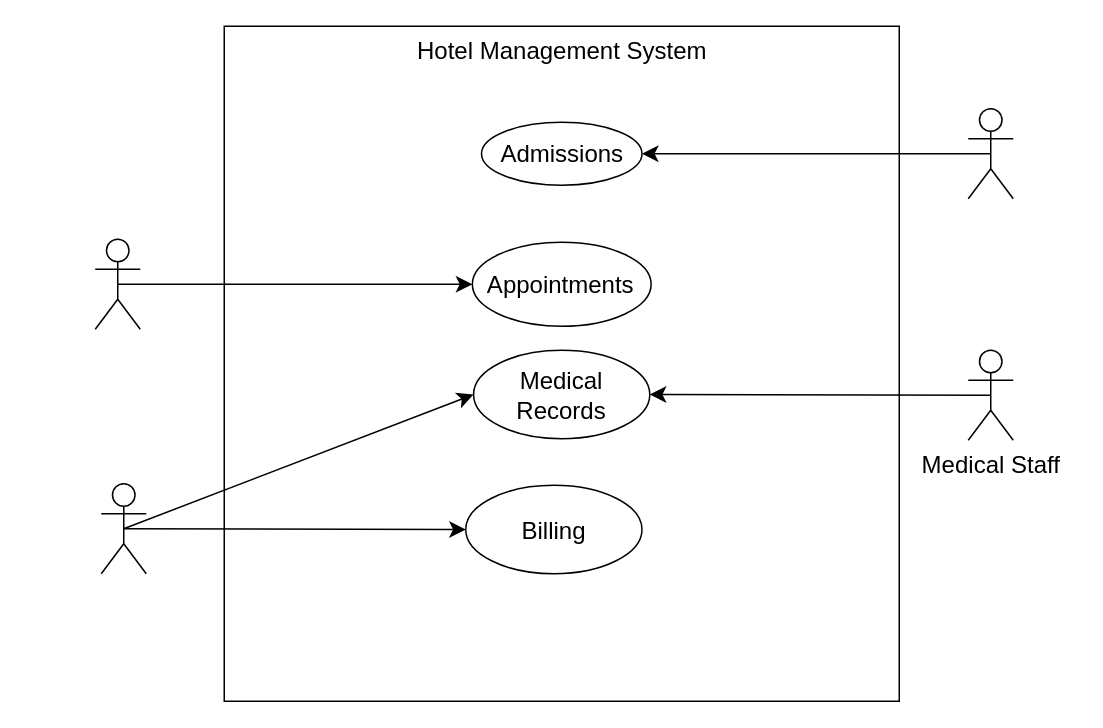
Some shapes in this 1103 by 728 pixel diagram are drawn without their labels. The centre of each missing label's shape, as x and y in pixels:
Billing Department: the point at 123,528
Front Desk Staff: the point at 990,153
Receptionist: the point at 117,283
